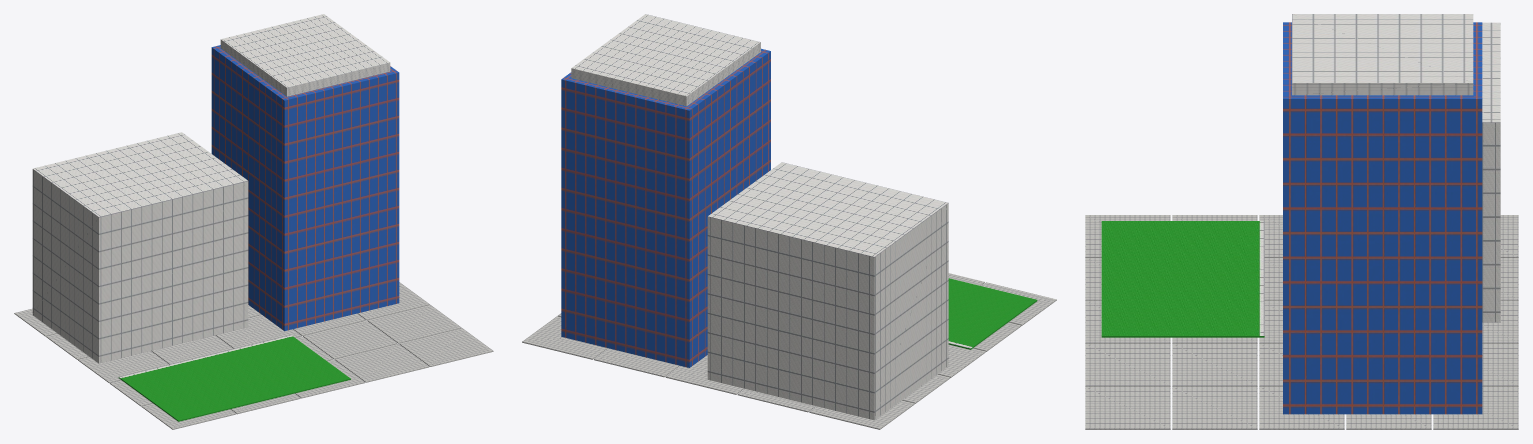
The picture shows the model from 3 angles, left to right: view 1: azimuth 30°, elevation 25°; view 2: azimuth 150°, elevation 25°; view 3: azimuth 270°, elevation 25°; orthographic projection. The views are drawn at different scales.
Visible parts, largest first — view 1: 28185_B22_Yonsei_International_Campus; view 2: 28185_B22_Yonsei_International_Campus; view 3: 28185_B22_Yonsei_International_Campus.
Part boxes in pixels (bbox=[...]): 28185_B22_Yonsei_International_Campus: bbox=[14, 14, 493, 429]; 28185_B22_Yonsei_International_Campus: bbox=[522, 14, 1056, 429]; 28185_B22_Yonsei_International_Campus: bbox=[1085, 14, 1518, 429].
Size of the model in its own units: 55.8 by 40 by 47.8.
1 material, 1 textured.
